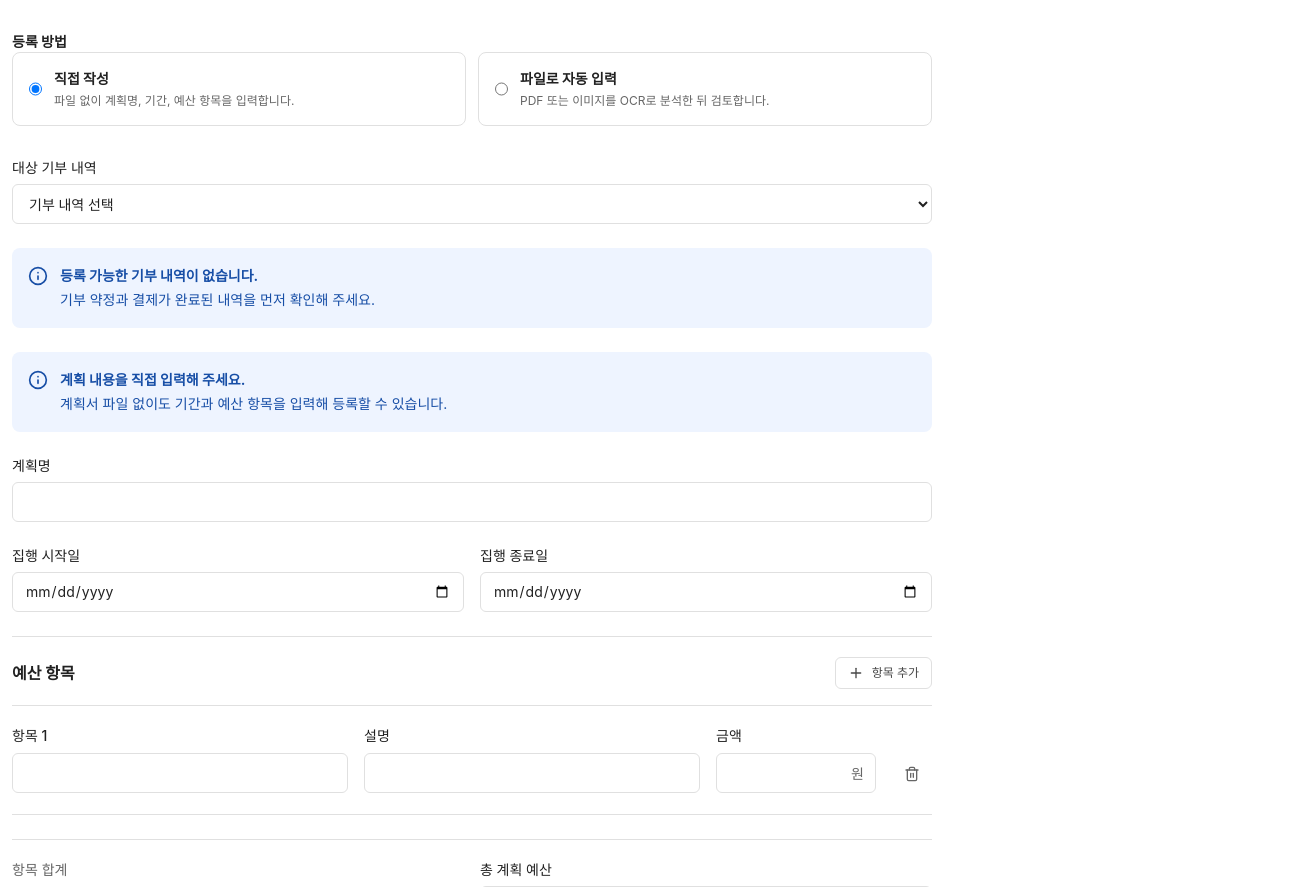
Test: PlanCreationForm › uses direct entry by default and offers OCR upload as an option
Expected: the field labelled "계획명" is shown, [12,482,932,522]
Expected: the field labelled "집행 계획서" is not shown
Click the radio button labelled "파일로 자동 입력 PDF 또는 이미지를 OCR로 분석한 뒤 검토합니다.".
click(502, 89)  # box [495,69,508,109]
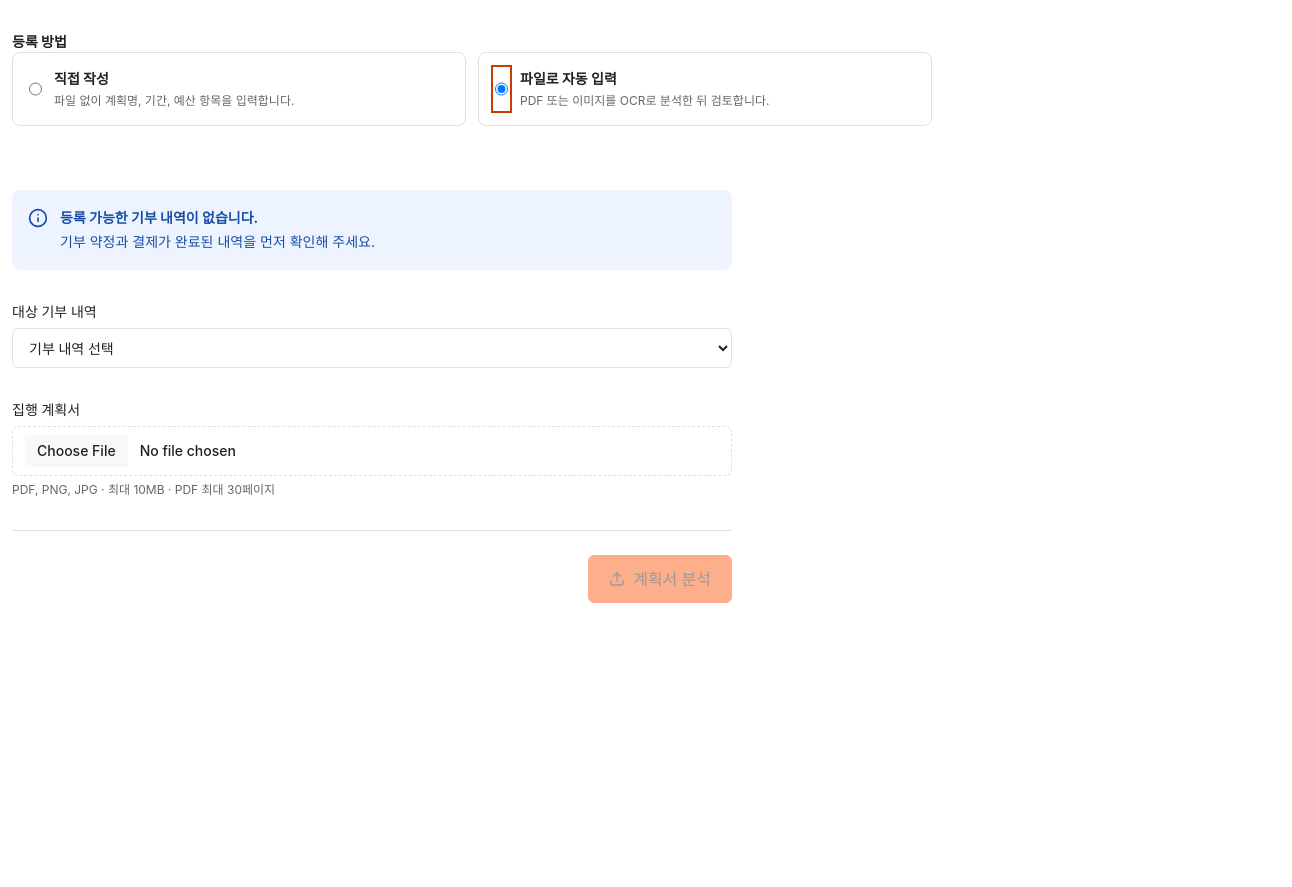
Now the file field labelled "집행 계획서 PDF, PNG, JPG · 최대 10MB · PDF 최대 30페이지" is shown, box [12,426,732,476]
